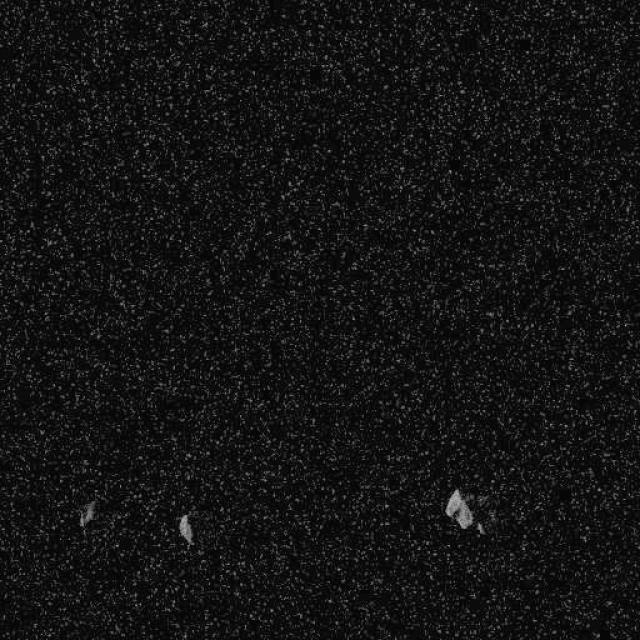D2: (442, 486, 487, 535), (78, 499, 98, 529), (176, 513, 194, 545)
